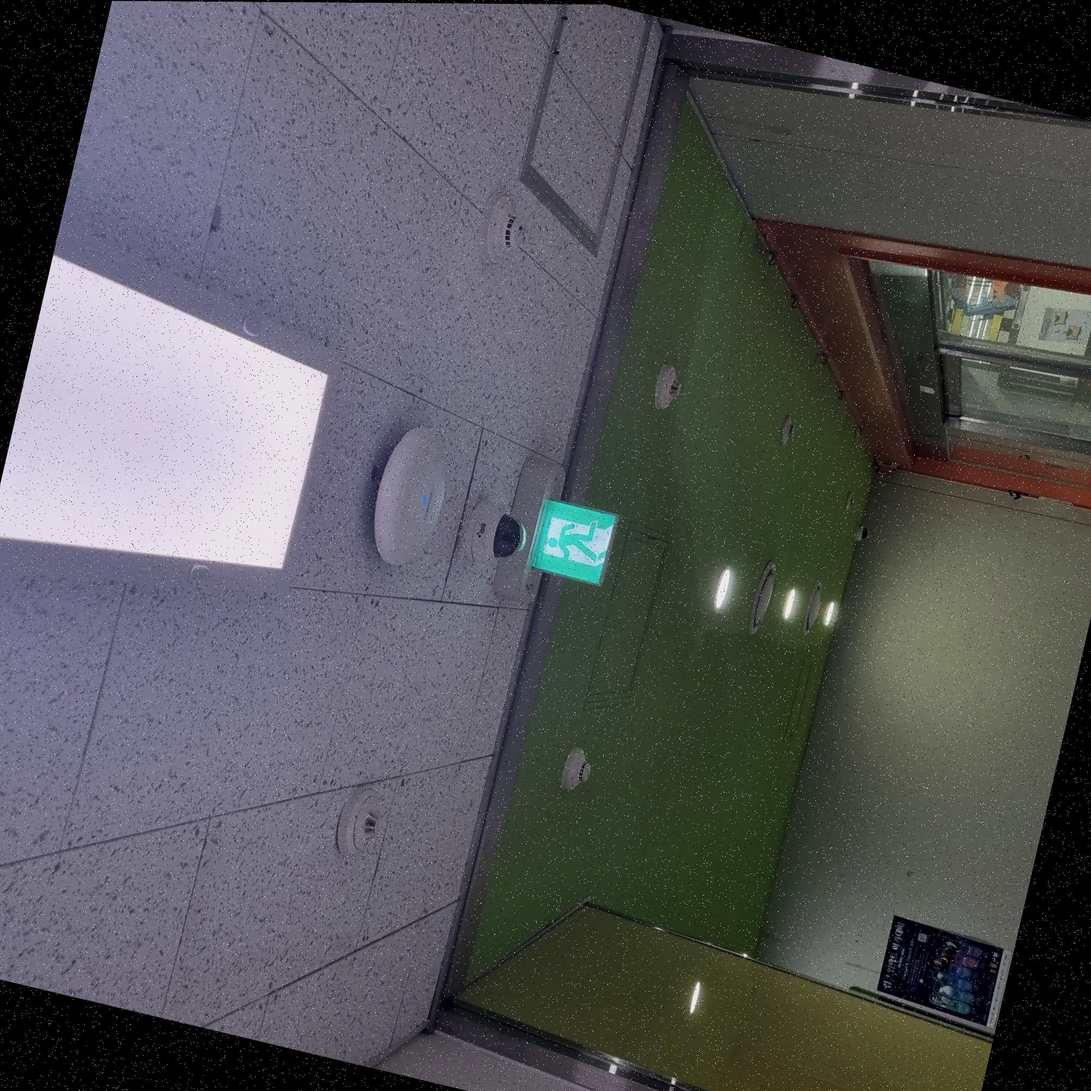emergency_exit: (526, 496, 619, 587)
